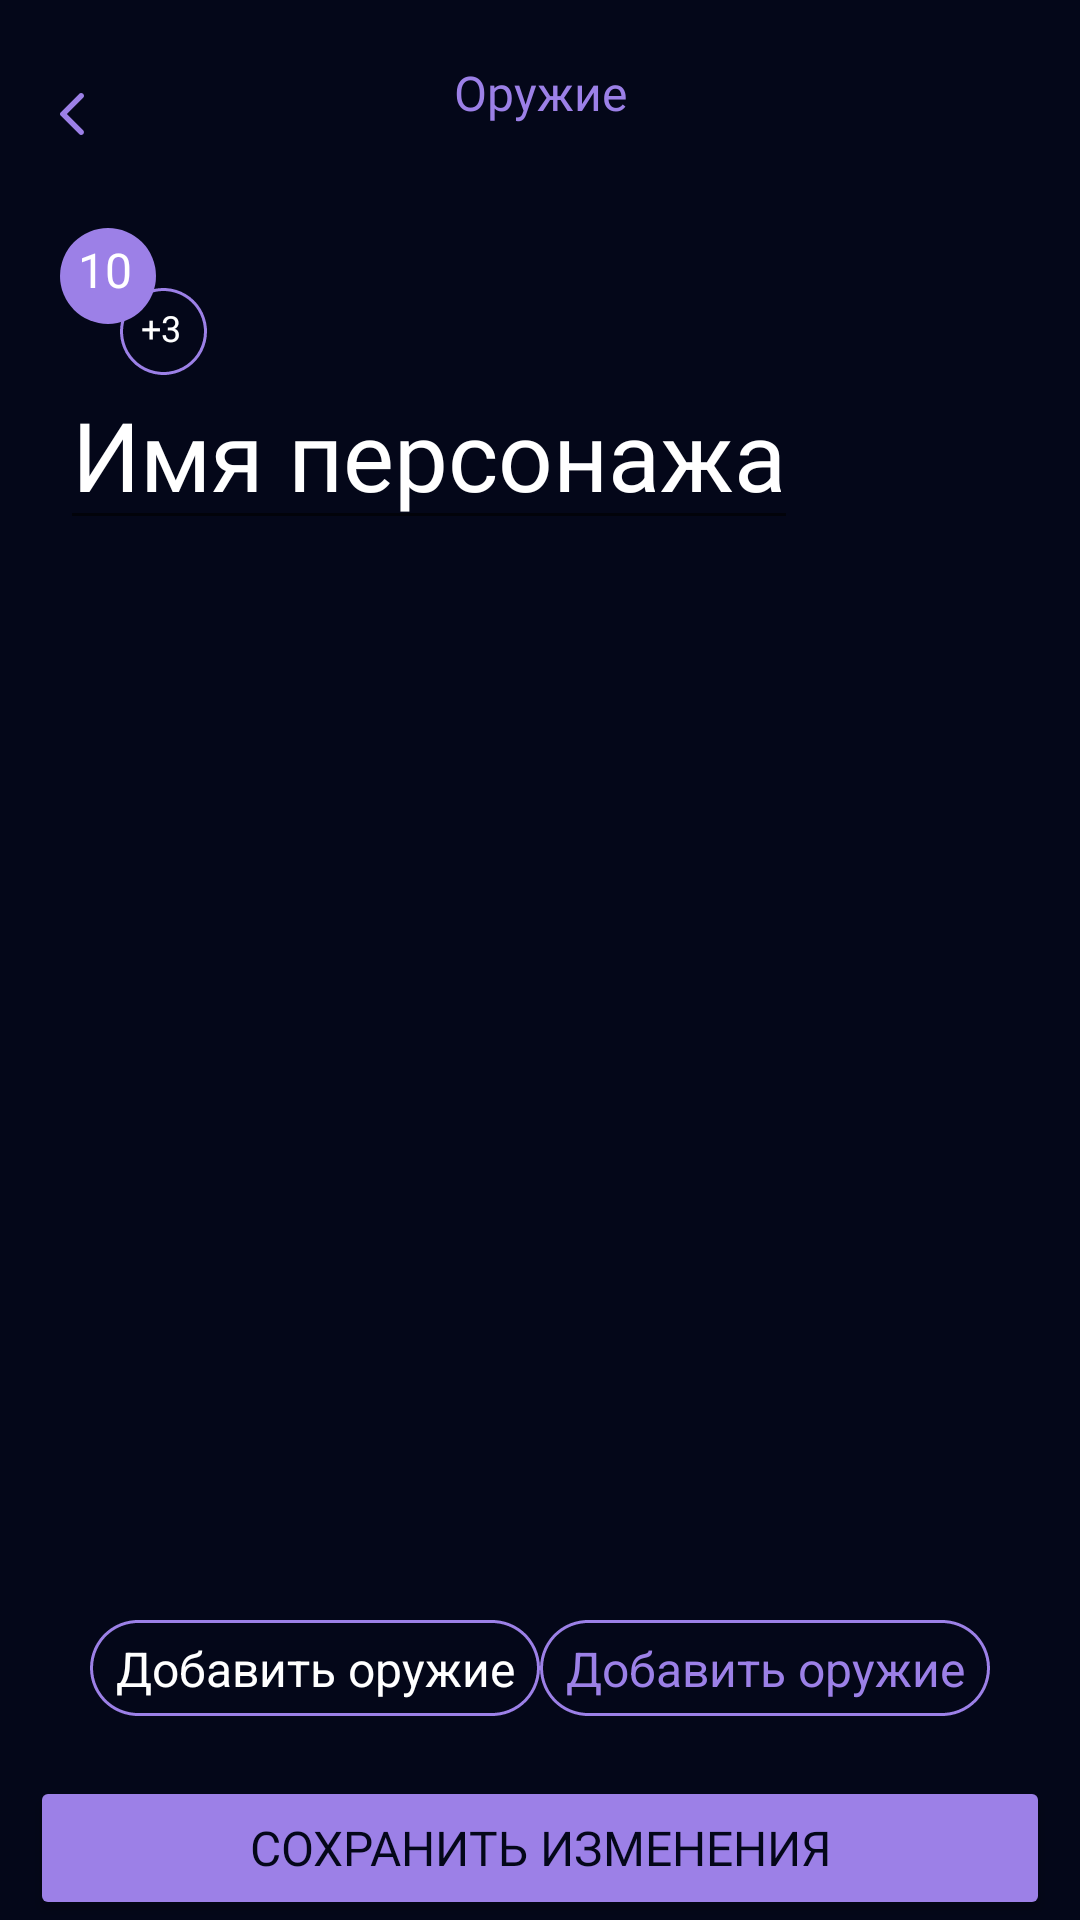

Named icons in this screenshot (1080px×1920px) and their centers, [x,y]:
backarrow: [72,114]
